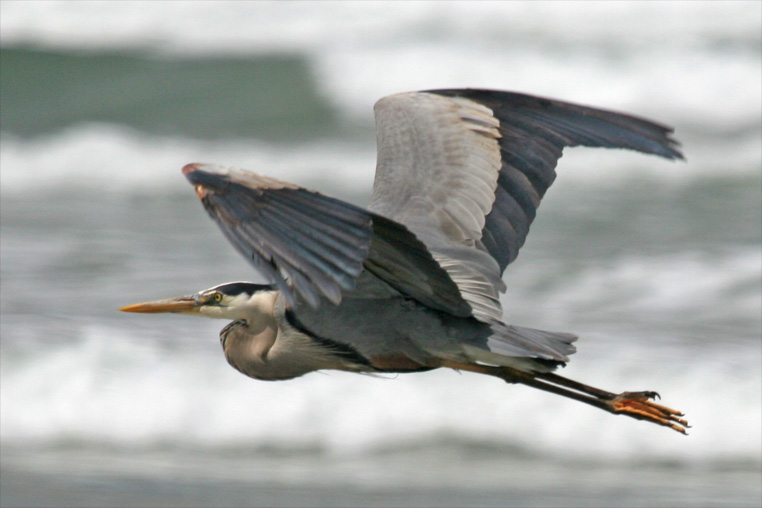heron: (116, 84, 693, 439)
